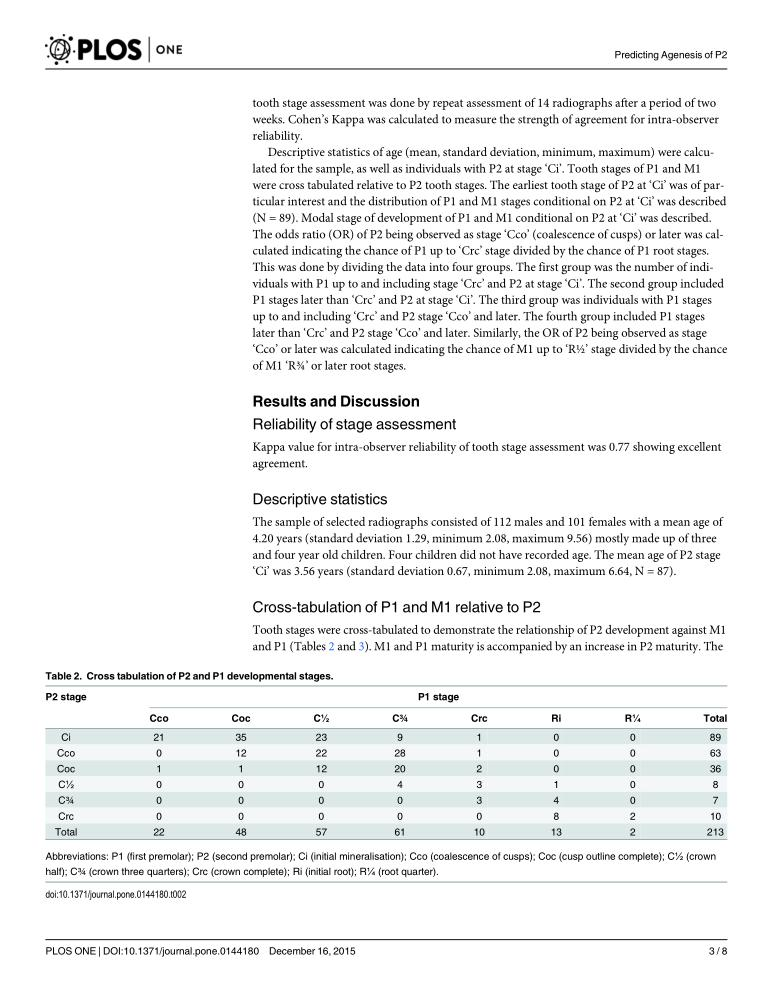table: (45, 690, 726, 837)
